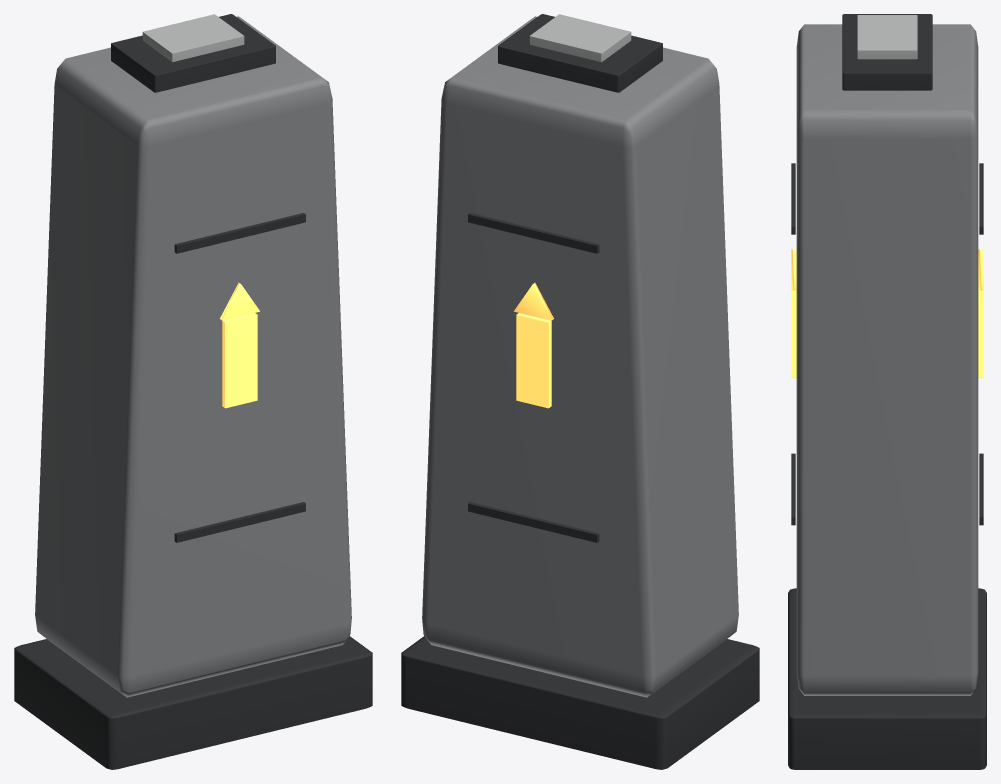
File: CyberAmmoPack.fbx
The picture shows the model from 3 angles, left to right: view 1: azimuth 30°, elevation 25°; view 2: azimuth 150°, elevation 25°; view 3: azimuth 270°, elevation 25°; orthographic projection.
Parts seen in each view (by area): view 1: CAP_opaque symmetric contoured pistol magazine body, CAP_integrated black floor plate, CAP_integrated top feed notch shadow, CAP_front bullet symbol casing, CAP_subtle grey top follower, CAP_front lower fine side groove, CAP_front upper fine side groove, CAP_front bullet symbol nose; view 2: CAP_opaque symmetric contoured pistol magazine body, CAP_integrated black floor plate, CAP_integrated top feed notch shadow, CAP_back bullet symbol casing, CAP_subtle grey top follower, CAP_back lower fine side groove, CAP_back upper fine side groove, CAP_back bullet symbol nose; view 3: CAP_opaque symmetric contoured pistol magazine body, CAP_integrated black floor plate, CAP_integrated top feed notch shadow, CAP_subtle grey top follower, CAP_back bullet symbol casing, CAP_front bullet symbol casing, CAP_back lower fine side groove, CAP_front lower fine side groove, CAP_back upper fine side groove, CAP_front upper fine side groove.
Part boxes in pixels (x1=…): CAP_opaque symmetric contoured pistol magazine body: x1=35, y1=16, x2=351, y2=697; CAP_integrated black floor plate: x1=14, y1=636, x2=372, y2=769; CAP_integrated top feed notch shadow: x1=111, y1=14, x2=275, y2=92; CAP_front bullet symbol casing: x1=222, y1=313, x2=257, y2=408; CAP_subtle grey top follower: x1=142, y1=14, x2=244, y2=61; CAP_front lower fine side groove: x1=174, y1=502, x2=305, y2=542; CAP_front upper fine side groove: x1=174, y1=213, x2=305, y2=253; CAP_front bullet symbol nose: x1=220, y1=282, x2=259, y2=320; CAP_opaque symmetric contoured pistol magazine body: x1=422, y1=16, x2=738, y2=697; CAP_integrated black floor plate: x1=401, y1=636, x2=759, y2=769; CAP_integrated top feed notch shadow: x1=498, y1=14, x2=662, y2=92; CAP_back bullet symbol casing: x1=516, y1=313, x2=551, y2=408; CAP_subtle grey top follower: x1=529, y1=14, x2=631, y2=61; CAP_back lower fine side groove: x1=468, y1=502, x2=599, y2=542; CAP_back upper fine side groove: x1=468, y1=213, x2=599, y2=253; CAP_back bullet symbol nose: x1=514, y1=282, x2=553, y2=320; CAP_opaque symmetric contoured pistol magazine body: x1=796, y1=24, x2=978, y2=695; CAP_integrated black floor plate: x1=788, y1=588, x2=986, y2=769; CAP_integrated top feed notch shadow: x1=842, y1=14, x2=932, y2=90; CAP_subtle grey top follower: x1=857, y1=15, x2=917, y2=59; CAP_back bullet symbol casing: x1=978, y1=290, x2=983, y2=377; CAP_front bullet symbol casing: x1=791, y1=290, x2=796, y2=377; CAP_back lower fine side groove: x1=979, y1=453, x2=983, y2=525; CAP_front lower fine side groove: x1=791, y1=453, x2=795, y2=525; CAP_back upper fine side groove: x1=979, y1=163, x2=983, y2=234; CAP_front upper fine side groove: x1=791, y1=163, x2=795, y2=234.
Bounding box in the file's own units: 14.7 × 35.89 × 9.45.
